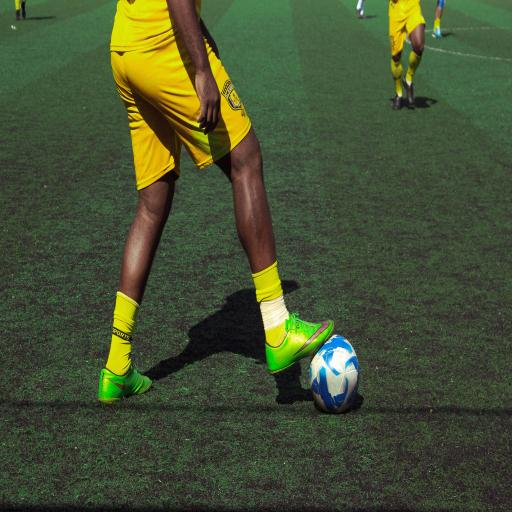shoe: (266, 314, 333, 373), (99, 366, 152, 403), (403, 77, 414, 105), (393, 93, 402, 109), (356, 9, 366, 19), (432, 27, 442, 37), (21, 2, 26, 19), (16, 10, 20, 20)
